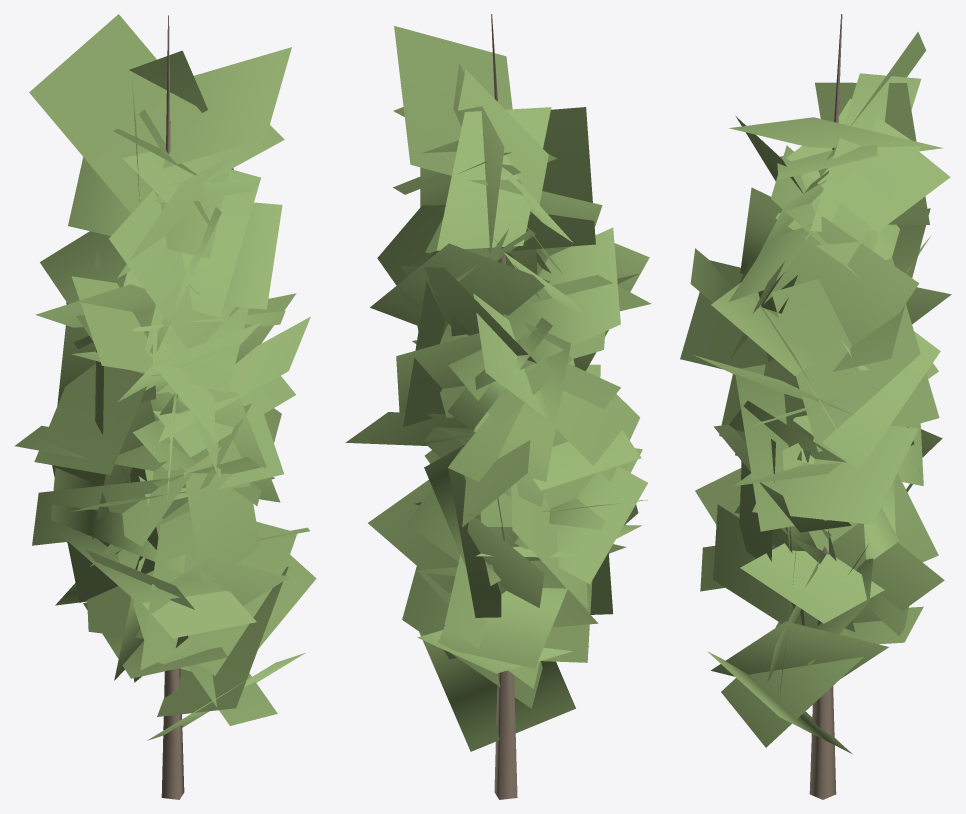
The model's file is Poplar_11_young_lod2.glb.
The picture shows the model from 3 angles, left to right: view 1: azimuth 30°, elevation 25°; view 2: azimuth 150°, elevation 25°; view 3: azimuth 270°, elevation 25°; orthographic projection.
Parts seen in each view (by area): view 1: Poplar_11_young_lod2; view 2: Poplar_11_young_lod2; view 3: Poplar_11_young_lod2.
Boxes of the visible parts, box(x1,y1,x2,y2) form: Poplar_11_young_lod2: box(14, 14, 316, 799); Poplar_11_young_lod2: box(345, 14, 651, 799); Poplar_11_young_lod2: box(680, 14, 951, 799).
Size of the model in its own units: 4.3 by 11.27 by 3.55.
